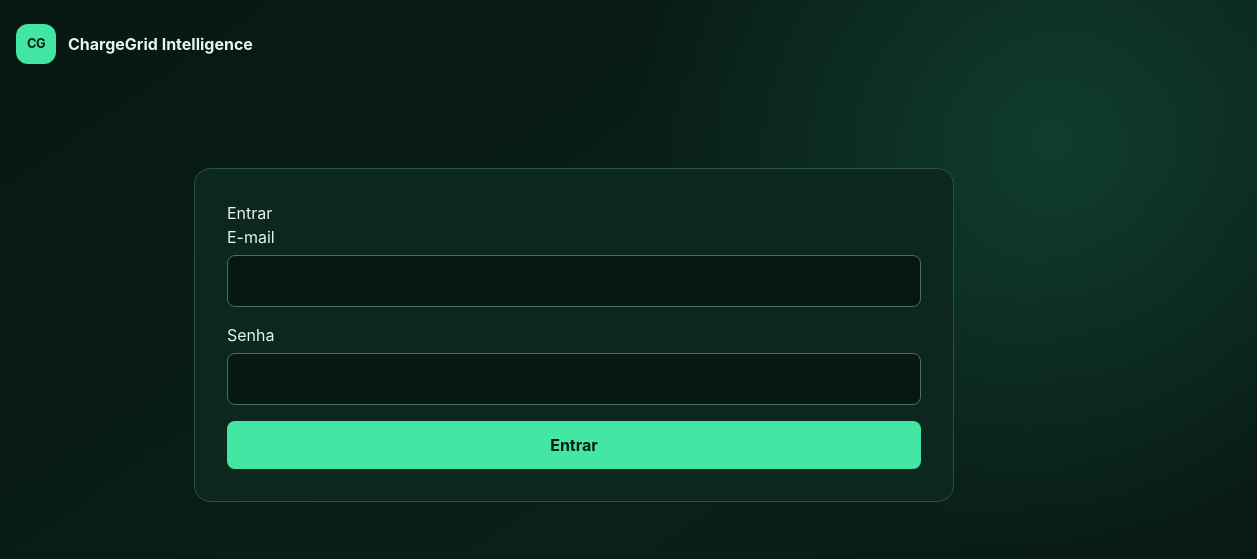
it: authentication flow › shows login errors without saving a token
In the field labelled "E-mail": point(574, 281) [227, 255, 921, 307], type "ana@example.com"
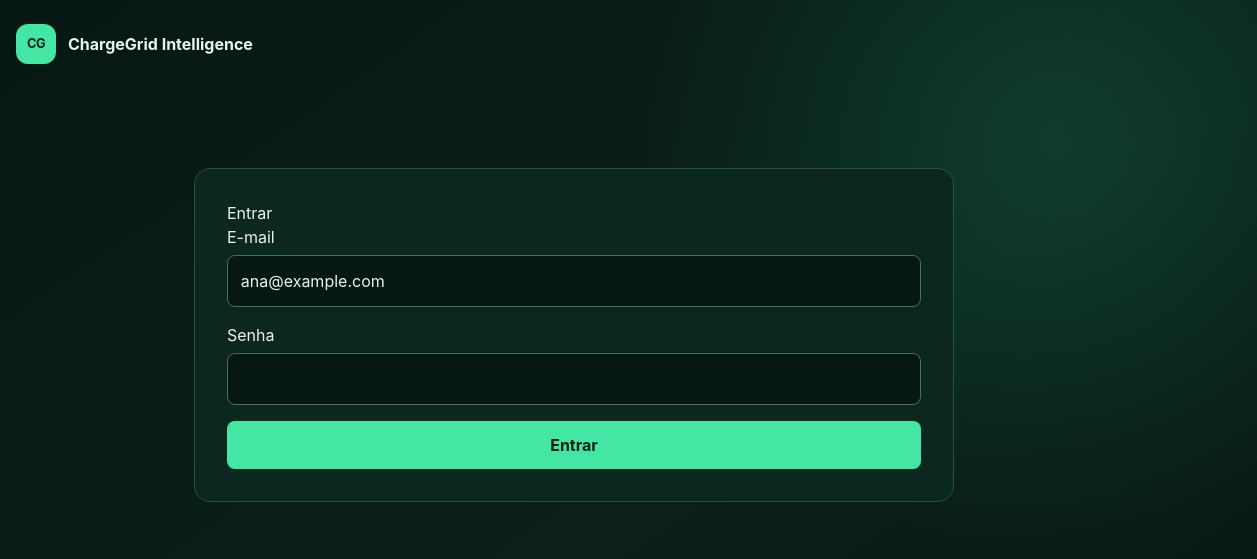
In the password field labelled "Senha": point(574, 379) [227, 353, 921, 405], type "wrong-password"
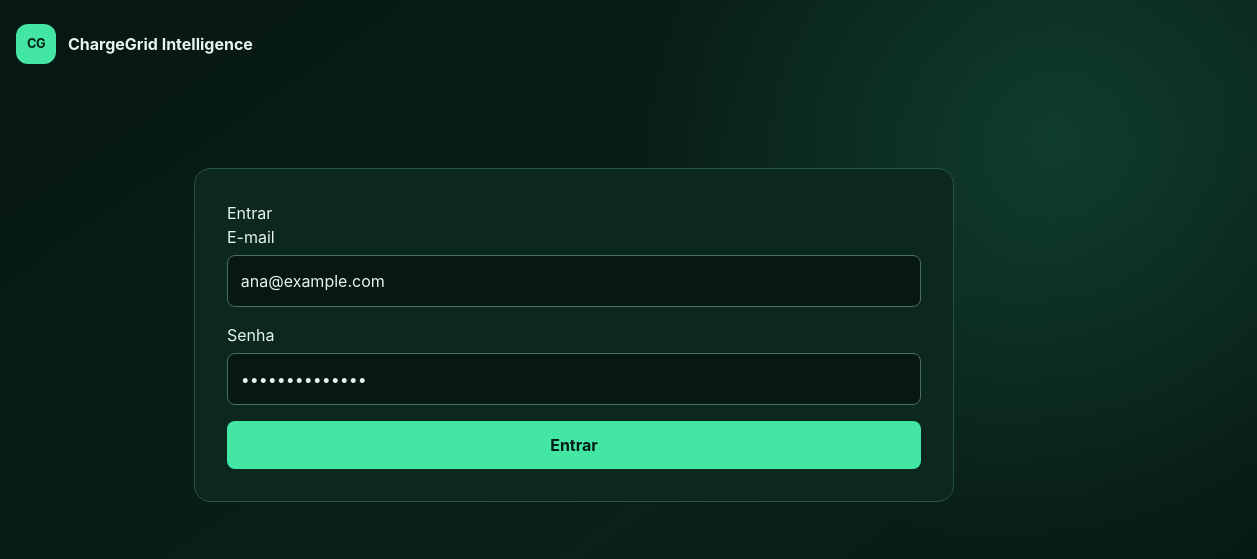
Click the button "Entrar": point(574, 445) [227, 421, 921, 469]
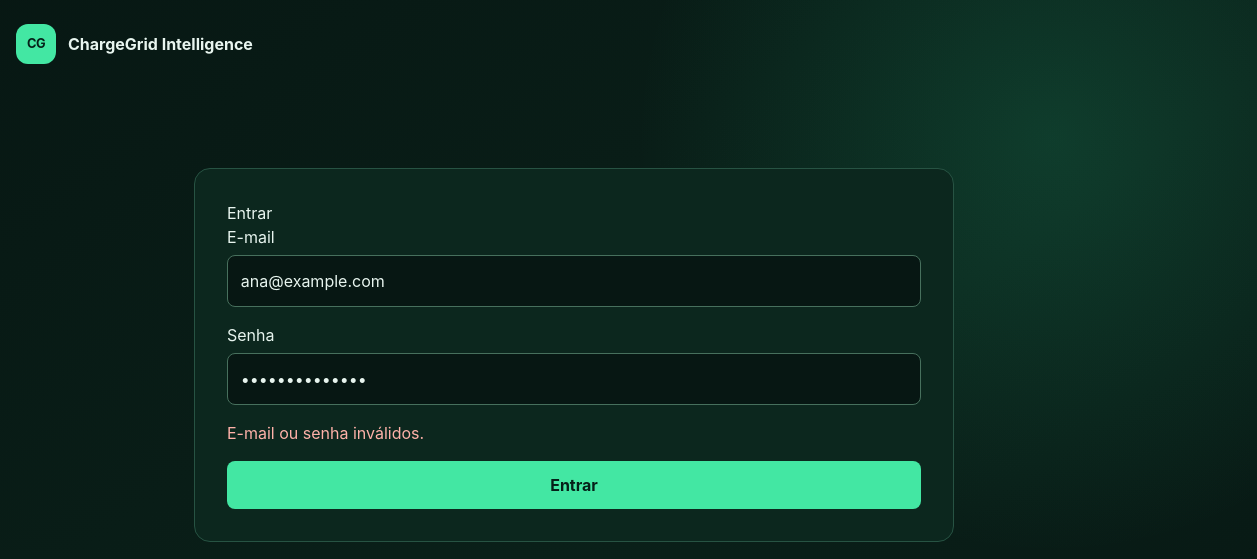
Result: the message reads "E-mail ou senha inválidos." at [227, 423, 424, 443]
